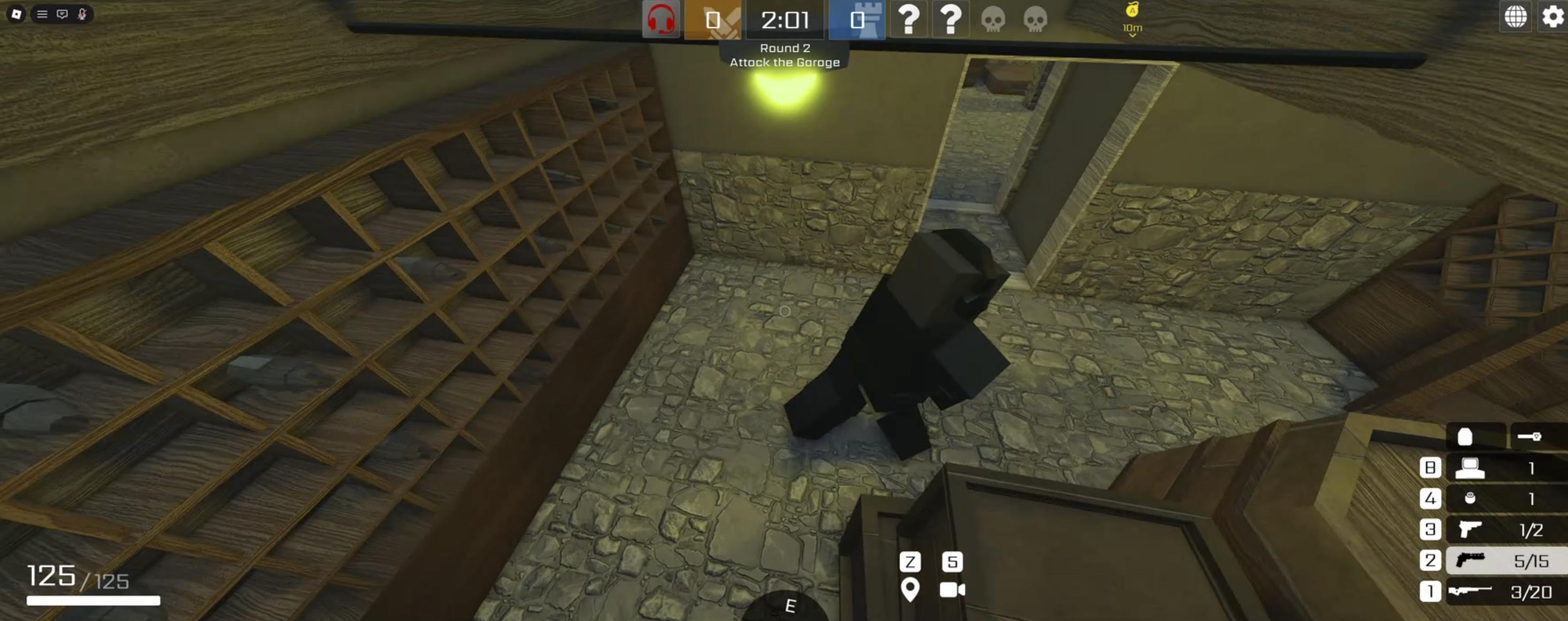enemy: (781, 208, 1006, 501)
